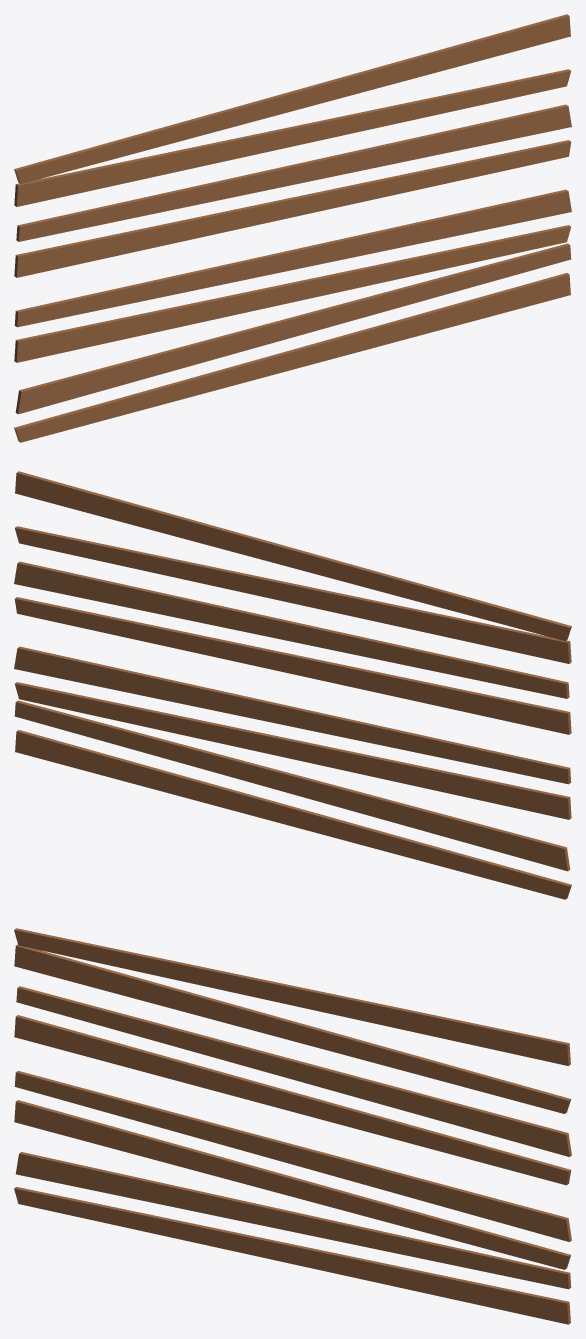
The model's file is WindowLargeAcc_PlanksV2.fbx.
3 renders of one model, top to bottom at view 1: azimuth 30°, elevation 25°; view 2: azimuth 150°, elevation 25°; view 3: azimuth 330°, elevation 25°, orthographic.
Parts seen in each view (by area): view 1: WindowLargeAcc_PlanksV2; view 2: WindowLargeAcc_PlanksV2; view 3: WindowLargeAcc_PlanksV2.
Part boxes in pixels (left/top/right/bottom): WindowLargeAcc_PlanksV2: left=14, top=14, right=571, bottom=442; WindowLargeAcc_PlanksV2: left=14, top=471, right=571, bottom=899; WindowLargeAcc_PlanksV2: left=14, top=928, right=571, bottom=1324.
Bounding box in the file's own units: 164 × 82.71 × 1.22.
